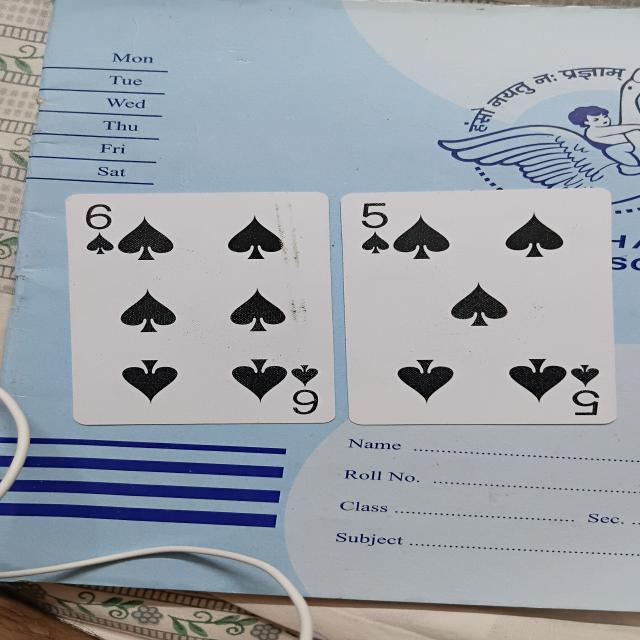5S: (334, 190, 622, 423)
6S: (62, 190, 336, 424)
